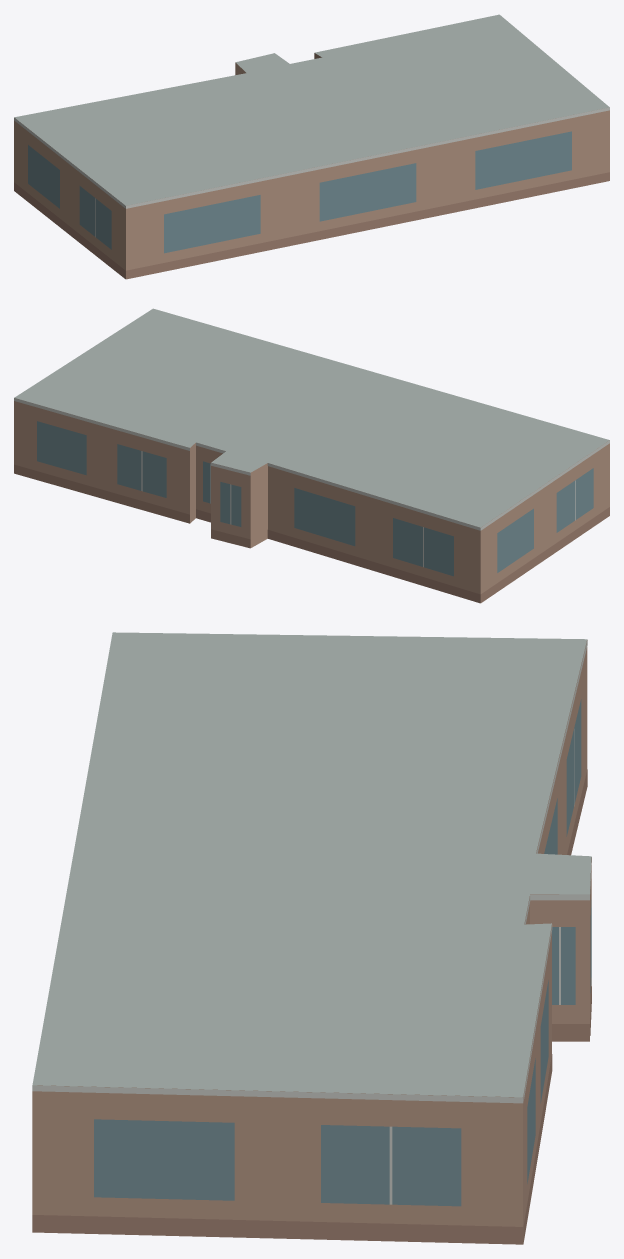
Rendered from survey-upis-33035903.glb.
The picture shows the model from 3 angles, top to bottom: view 1: azimuth 30°, elevation 25°; view 2: azimuth 150°, elevation 25°; view 3: azimuth 270°, elevation 25°; orthographic projection. The views are drawn at different scales.
Parts seen in each view (by area): view 1: survey-upis-33035903.tmp; view 2: survey-upis-33035903.tmp; view 3: survey-upis-33035903.tmp.
Part boxes in pixels (left/top/right/bottom): survey-upis-33035903.tmp: left=14, top=14, right=609, bottom=279; survey-upis-33035903.tmp: left=14, top=308, right=609, bottom=603; survey-upis-33035903.tmp: left=32, top=632, right=591, bottom=1244.
Size of the model in its own units: 20.68 by 3.05 by 10.51.
